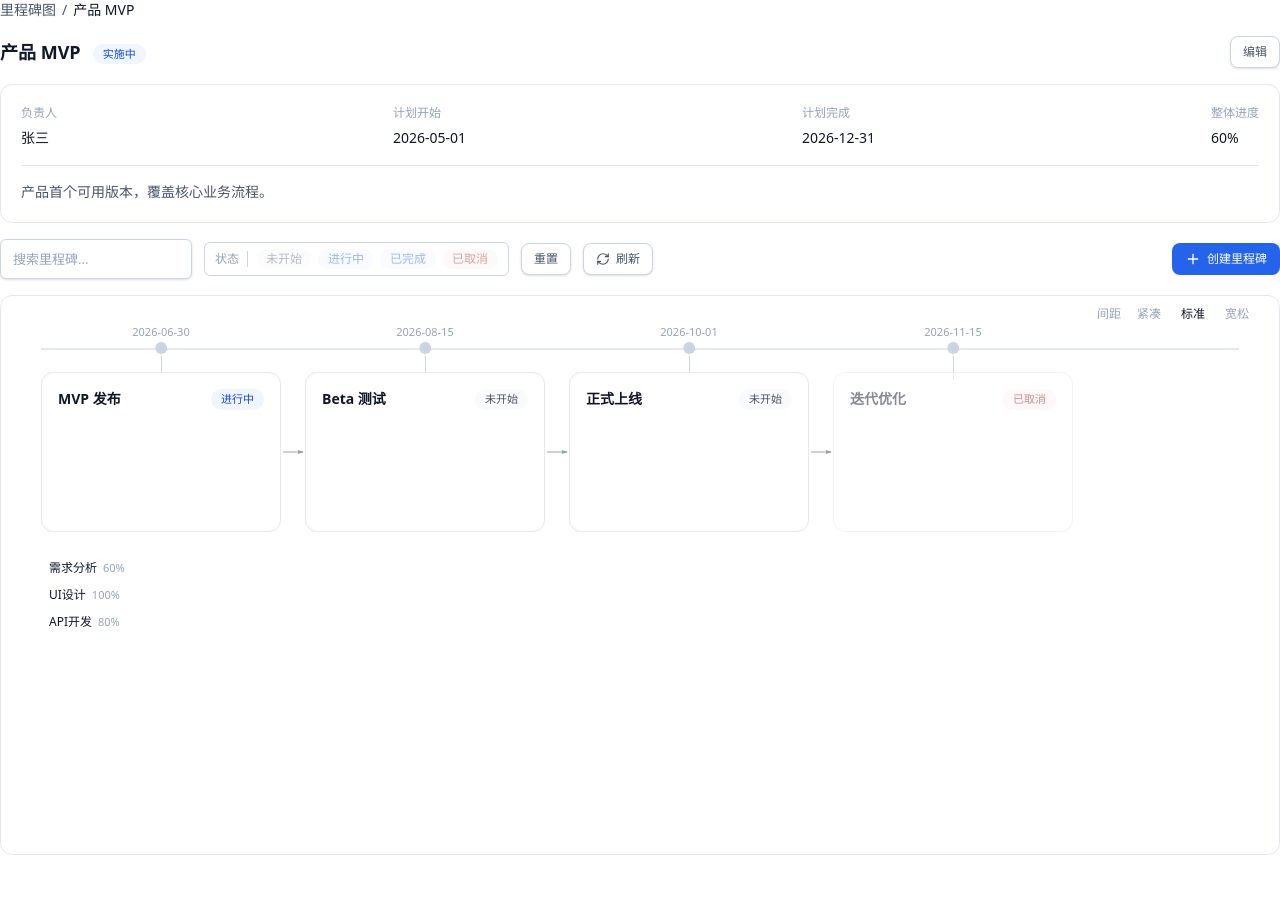
Test: MilestoneTimeline › opens detail panel when milestone node is clicked
The width and height of the screenshot is (1280, 900).
Click the button with test id "milestone-node-ms-1" at (161,452), box [41,372,281,532]
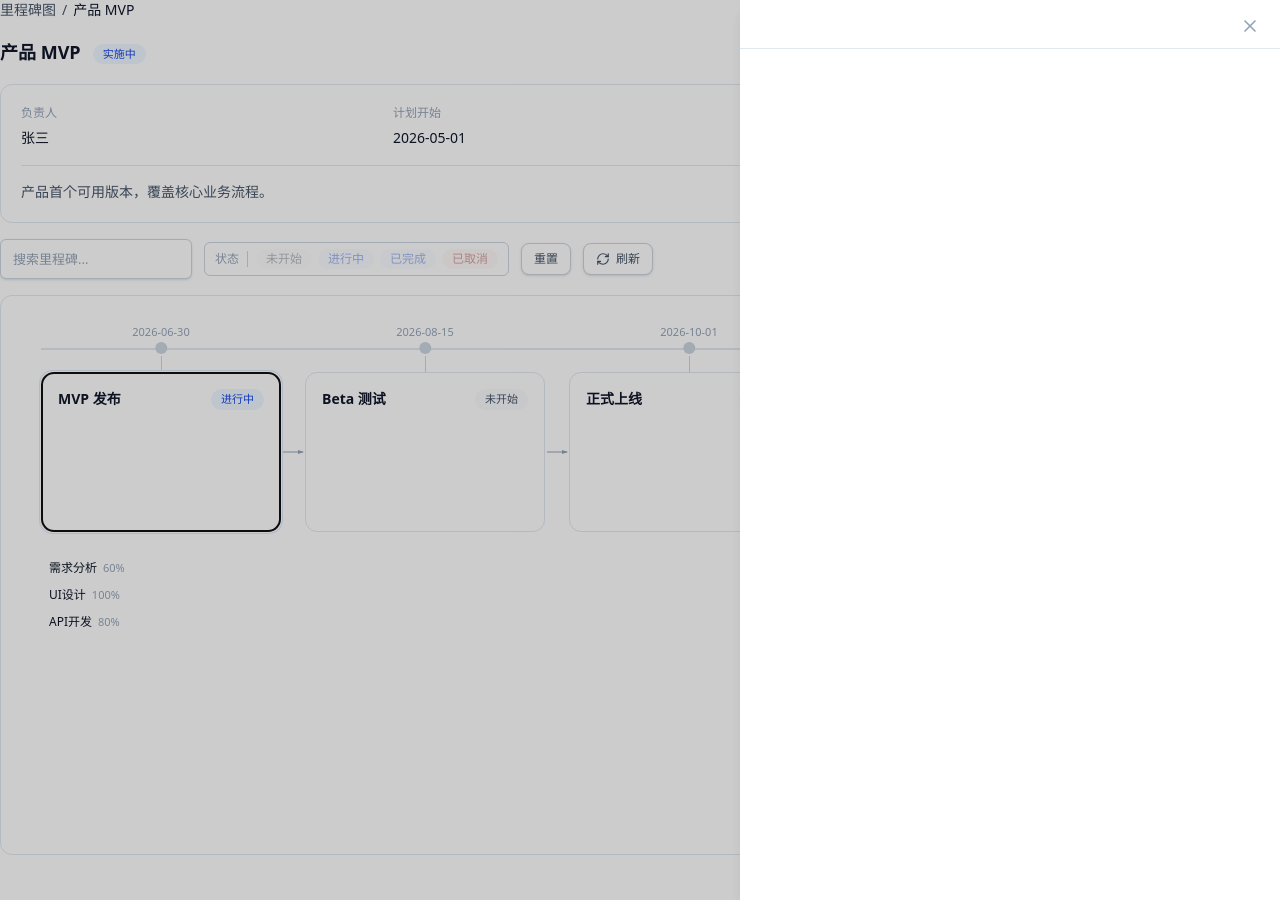
Result: the dialog named "里程碑详情" is shown at [740,0,1279,899]
